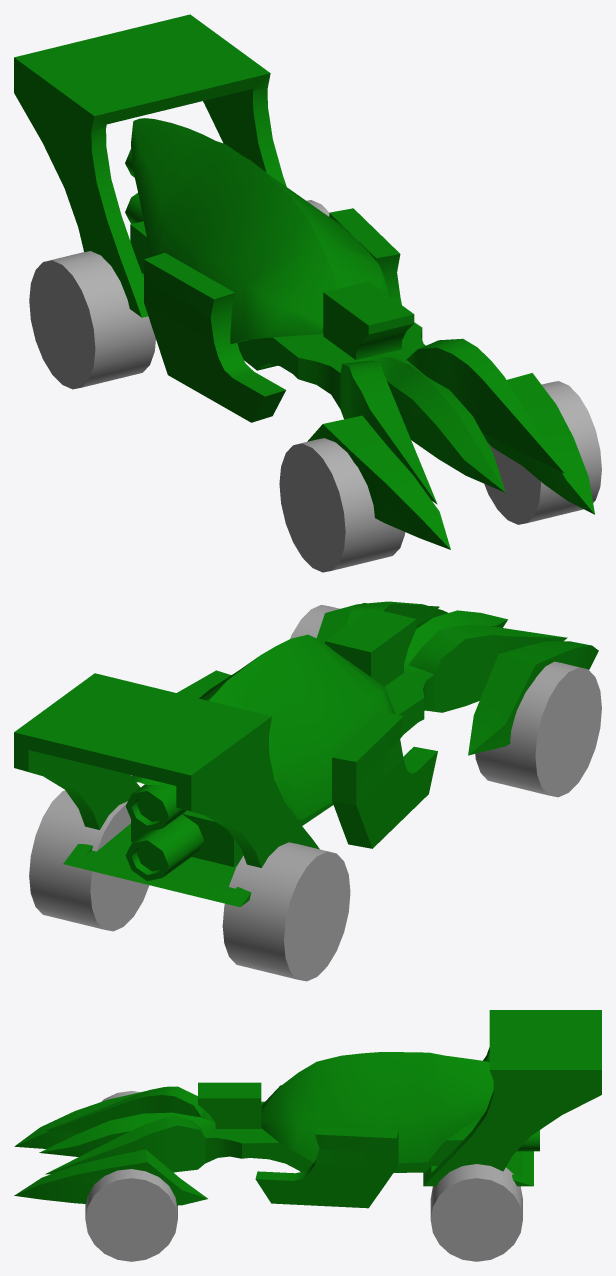
File: nave3.fbx
3 renders of one model, top to bottom at view 1: azimuth 30°, elevation 25°; view 2: azimuth 150°, elevation 25°; view 3: azimuth 270°, elevation 25°, orthographic. The views are drawn at different scales.
Parts seen in each view (by area): view 1: carroceria, faldones, llanta1, llanta2, llanta3, cubo; view 2: carroceria, faldones, llanta1, llanta2, llanta, escapes, cubo, llanta3; view 3: carroceria, faldones, llanta, llanta3, cubo.
Part boxes in pixels (x1=…): carroceria: x1=14, y1=14, x2=564, y2=504; faldones: x1=144, y1=208, x2=594, y2=549; llanta1: x1=29, y1=251, x2=155, y2=389; llanta2: x1=279, y1=438, x2=405, y2=572; llanta3: x1=484, y1=381, x2=601, y2=524; cubo: x1=323, y1=281, x2=414, y2=360; carroceria: x1=14, y1=603, x2=567, y2=907; faldones: x1=177, y1=601, x2=598, y2=848; llanta1: x1=222, y1=842, x2=350, y2=981; llanta2: x1=475, y1=661, x2=601, y2=797; llanta: x1=29, y1=790, x2=149, y2=931; escapes: x1=125, y1=784, x2=203, y2=881; cubo: x1=325, y1=608, x2=416, y2=686; llanta3: x1=290, y1=605, x2=339, y2=638; carroceria: x1=39, y1=1010, x2=601, y2=1186; faldones: x1=14, y1=1091, x2=398, y2=1208; llanta: x1=430, y1=1164, x2=522, y2=1261; llanta3: x1=85, y1=1169, x2=177, y2=1261; cubo: x1=198, y1=1082, x2=261, y2=1128.
Bounding box in the file's own units: 229 × 217 × 651.
